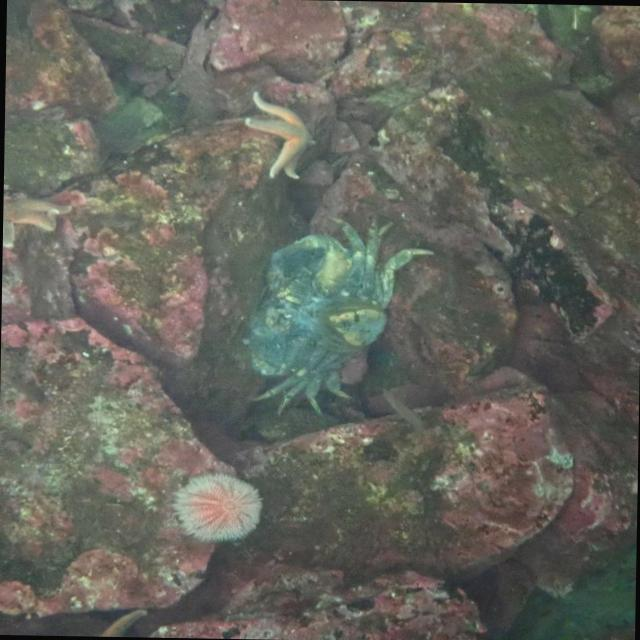Deniz Kestanesi: (170, 471, 262, 543)
